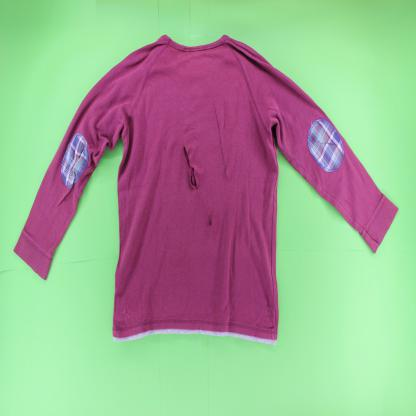hole: (211, 99, 230, 180), (181, 142, 201, 196)
